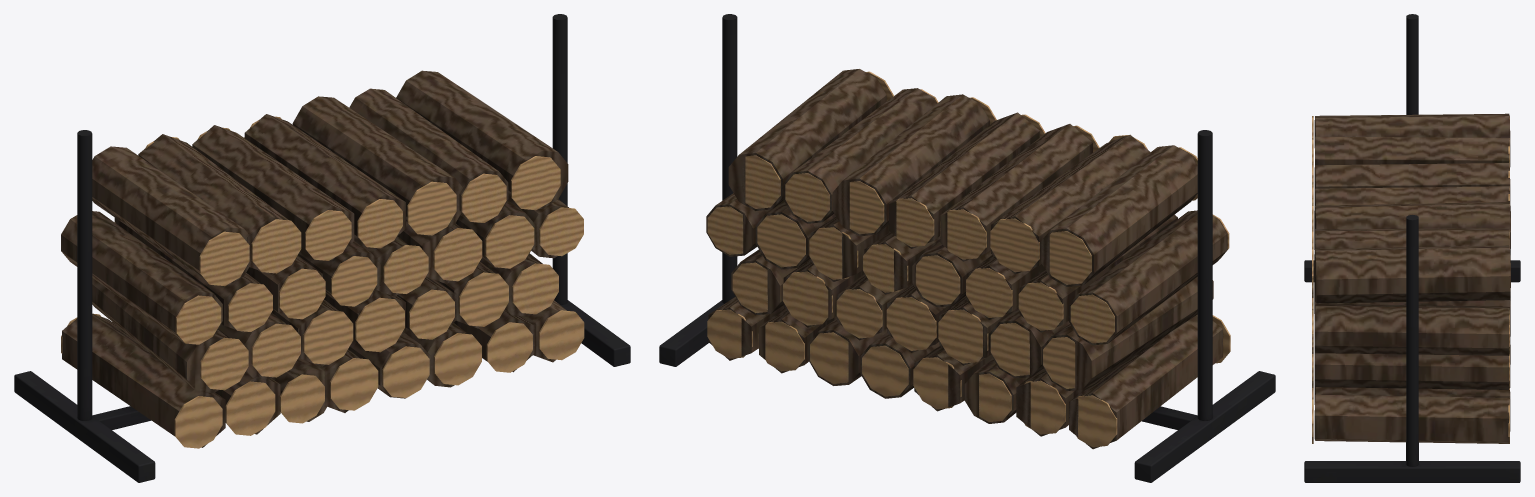
File: rack.glb
The picture shows the model from 3 angles, left to right: view 1: azimuth 30°, elevation 25°; view 2: azimuth 150°, elevation 25°; view 3: azimuth 270°, elevation 25°; orthographic projection. The views are drawn at different scales.
Visible parts, largest first — view 1: bark, endgrain, steel_rack; view 2: bark, endgrain, steel_rack; view 3: bark, steel_rack, endgrain.
Part boxes in pixels (x1=…): bark: x1=61, y1=70, x2=568, y2=447; endgrain: x1=61, y1=116, x2=584, y2=448; steel_rack: x1=14, y1=14, x2=630, y2=482; bark: x1=706, y1=69, x2=1227, y2=449; endgrain: x1=707, y1=71, x2=1230, y2=447; steel_rack: x1=659, y1=14, x2=1275, y2=482; bark: x1=1314, y1=113, x2=1510, y2=443; steel_rack: x1=1304, y1=14, x2=1520, y2=482; endgrain: x1=1312, y1=116, x2=1509, y2=443.
Bounding box in the file's own units: 1.14 × 0.67 × 0.5.
Materials: 3 (3 with a texture image).
